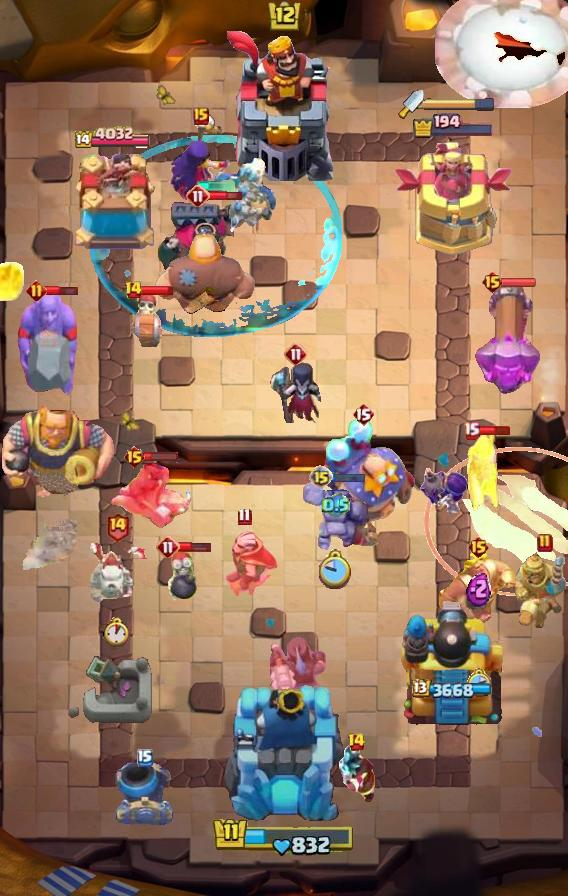archer-queen: (15, 290, 81, 402)
axe: (169, 113, 233, 201)
balloon: (152, 231, 258, 321)
bar: (395, 142, 514, 256)
bomb-tower: (465, 426, 503, 524)
clock: (212, 816, 356, 858)
electro-spirit: (465, 571, 490, 607), (322, 493, 350, 518)
elixir: (319, 549, 353, 589), (102, 616, 132, 647), (465, 668, 490, 697)
emote: (208, 189, 243, 203), (44, 284, 80, 297), (330, 471, 366, 483), (501, 276, 537, 287), (143, 451, 179, 462), (177, 541, 210, 553), (140, 285, 174, 296), (477, 425, 511, 436)
fisherman: (17, 519, 77, 577)
freeze: (108, 462, 192, 528)
furnace: (474, 279, 542, 399)
giant-skeleton: (0, 400, 116, 500)
goblin-ball: (418, 466, 470, 520)
goblin-hut: (436, 548, 520, 648)
ice-golem: (165, 549, 199, 605)
ice-spirit: (194, 180, 236, 192)
ice-wizard: (424, 447, 568, 596)
inferno-dragon: (267, 634, 327, 724)
inferno-tower: (155, 200, 275, 276)
king-tower: (223, 31, 345, 181), (221, 682, 347, 826)
king-tower-bar: (424, 97, 496, 111)
knight: (123, 292, 167, 350)
little-prince: (309, 416, 417, 550)
lumberjack: (333, 745, 379, 805)
mini-pekka: (208, 154, 278, 238), (87, 535, 147, 605)
musketeer: (115, 761, 175, 825)
pad_0: (88, 135, 342, 341)
queen-tower: (66, 154, 162, 256)
ram-rider: (512, 546, 568, 630)
rascal-boy: (268, 359, 324, 429)
selected: (413, 113, 496, 139), (75, 126, 153, 151), (412, 679, 494, 700)
skeleton-king: (207, 529, 281, 597)
text: (105, 511, 130, 542), (186, 184, 210, 208), (284, 342, 308, 366), (309, 465, 333, 489), (156, 535, 180, 559), (480, 270, 503, 294), (122, 445, 145, 469), (466, 535, 489, 559), (352, 402, 374, 426), (25, 280, 46, 301), (124, 280, 143, 300), (347, 732, 366, 752), (463, 421, 481, 440), (537, 533, 553, 553), (193, 107, 209, 125), (137, 749, 153, 767), (236, 507, 251, 525)
tower-bar: (397, 595, 509, 731)
valkyrie: (0, 256, 28, 304)
valkyrie-evolution: (303, 479, 369, 551)
wall-breaker: (436, 0, 568, 108)
